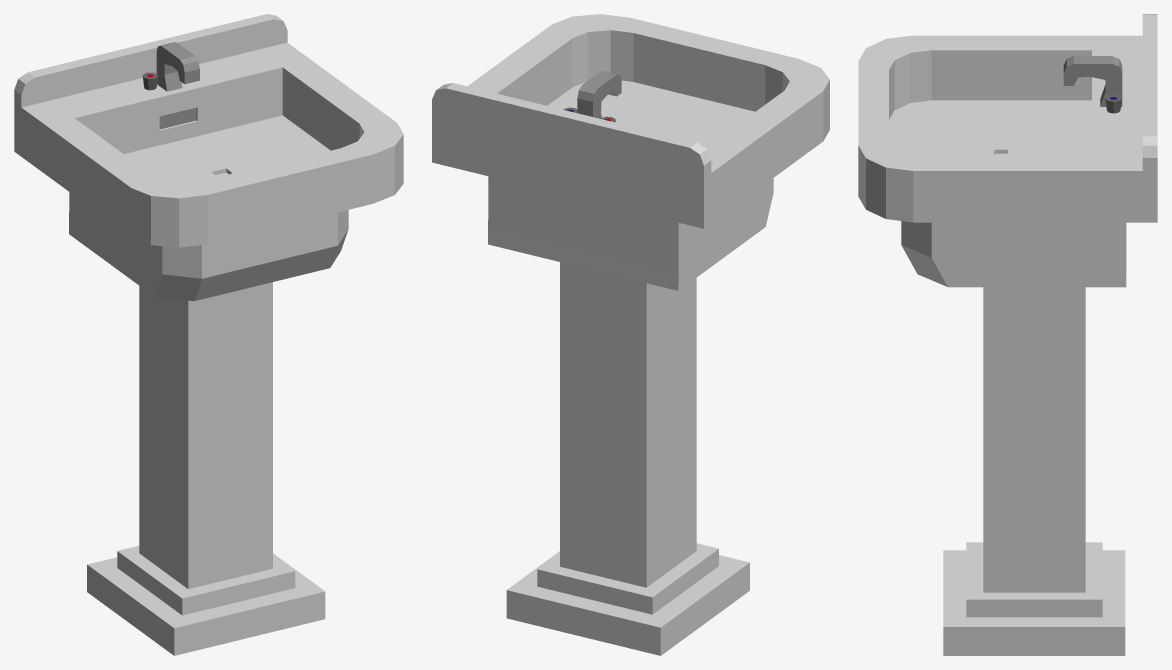
The model's file is Bathroom Sink.glb.
The picture shows the model from 3 angles, left to right: view 1: azimuth 30°, elevation 25°; view 2: azimuth 150°, elevation 25°; view 3: azimuth 270°, elevation 25°; orthographic projection. The views are drawn at different scales.
Visible parts, largest first — view 1: Sink; view 2: Sink; view 3: Sink.
Boxes of the visible parts, x1=… form: Sink: x1=14, y1=14, x2=403, y2=655; Sink: x1=432, y1=14, x2=829, y2=655; Sink: x1=858, y1=14, x2=1157, y2=655.
Bounding box in the file's own units: 0.628 × 1.2 × 0.5855.
Materials: 1 (1 with a texture image).
